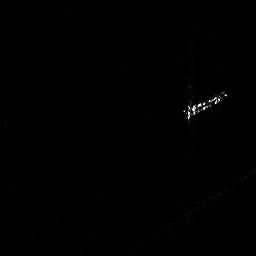ship: (180, 88, 229, 120)
